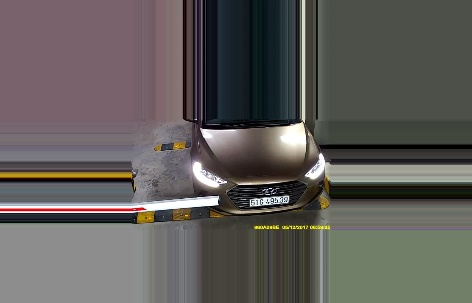plate: (249, 193, 290, 206)
